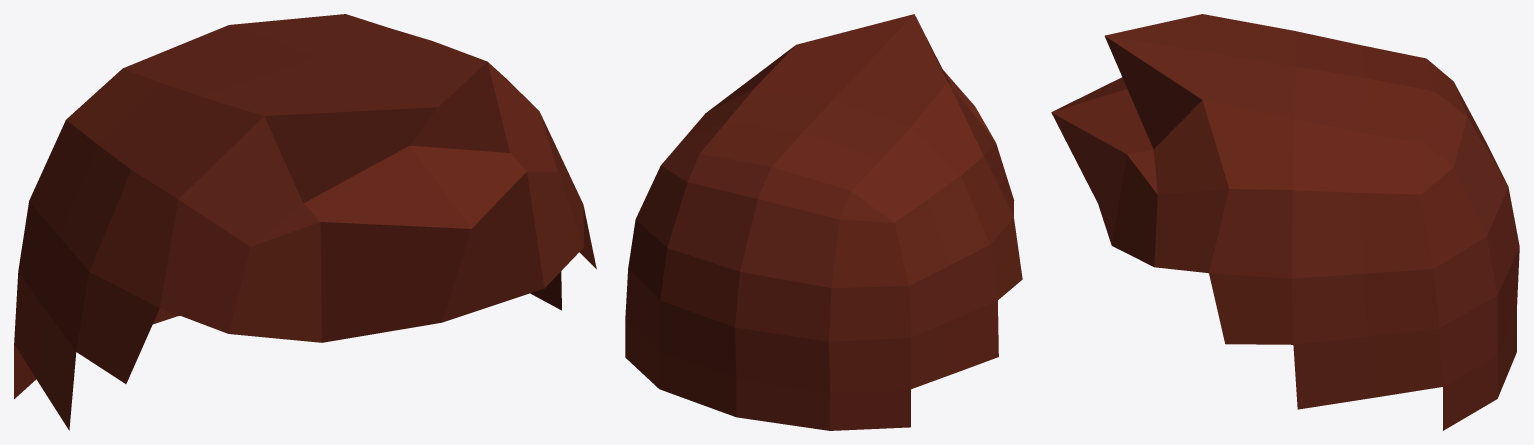
The model's file is Hair2.fbx.
The picture shows the model from 3 angles, left to right: view 1: azimuth 30°, elevation 25°; view 2: azimuth 150°, elevation 25°; view 3: azimuth 270°, elevation 25°; orthographic projection. The views are drawn at different scales.
Parts seen in each view (by area): view 1: Hair3; view 2: Hair3; view 3: Hair3.
Boxes of the visible parts, x1,y1,x2,y2 form: Hair3: (14,14,596,430); Hair3: (625,14,1022,430); Hair3: (1051,14,1519,430).
Bounding box in the file's own units: 84.77 × 65.85 × 88.41.
